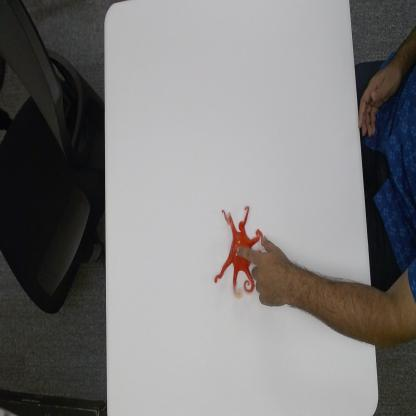Arm: (290, 262, 416, 350)
Hand: (236, 234, 292, 310)
Octopus: (213, 202, 265, 298)
